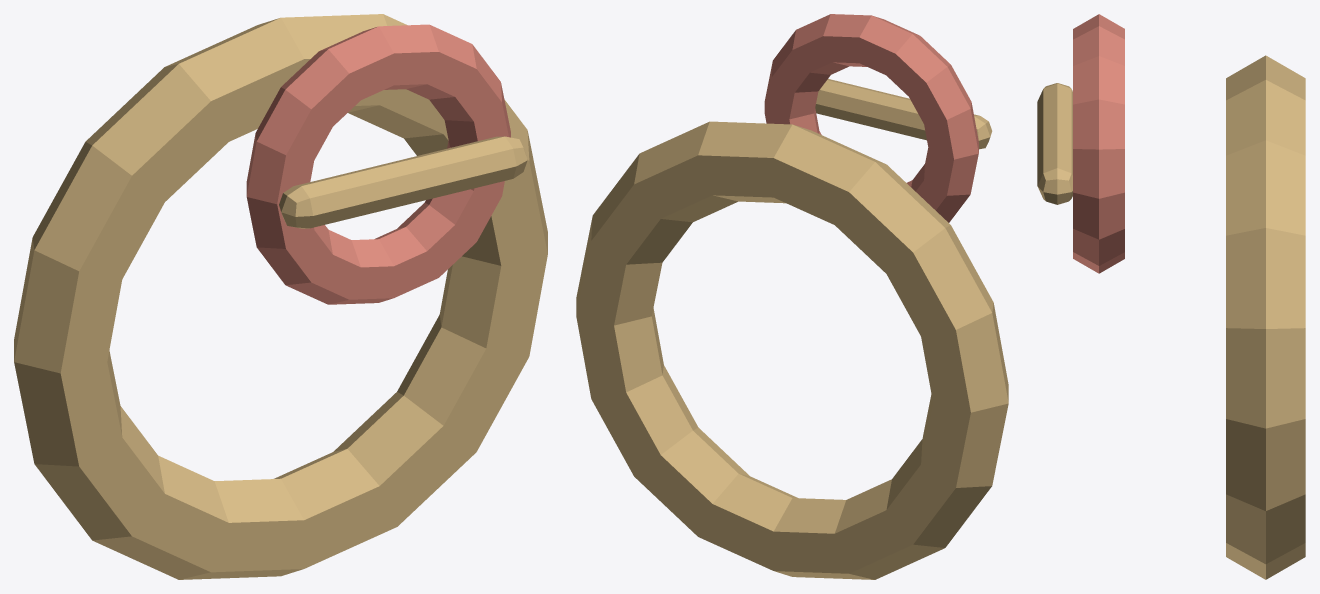
The model's file is arm_relay_ring.glb.
3 views of the same model, side by side, from view 1: azimuth 30°, elevation 25°; view 2: azimuth 150°, elevation 25°; view 3: azimuth 270°, elevation 25° (orthographic). The views are drawn at different scales.
Parts seen in each view (by area): view 1: arm_relay_ring; view 2: arm_relay_ring; view 3: arm_relay_ring.
Boxes of the visible parts, <box> form: arm_relay_ring: <box>14,14,547,579</box>; arm_relay_ring: <box>576,14,1008,579</box>; arm_relay_ring: <box>1037,14,1305,579</box>.
Bounding box in the file's own units: 0.63 × 0.701 × 0.3216.
